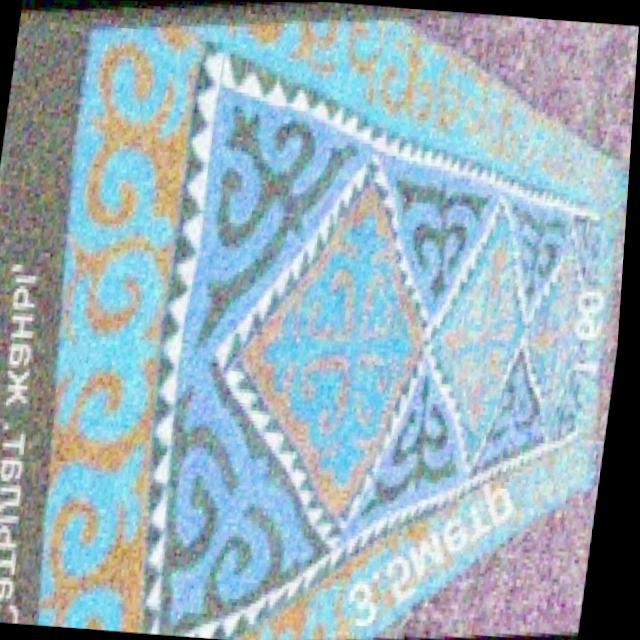Unity: (249, 200, 417, 524)
